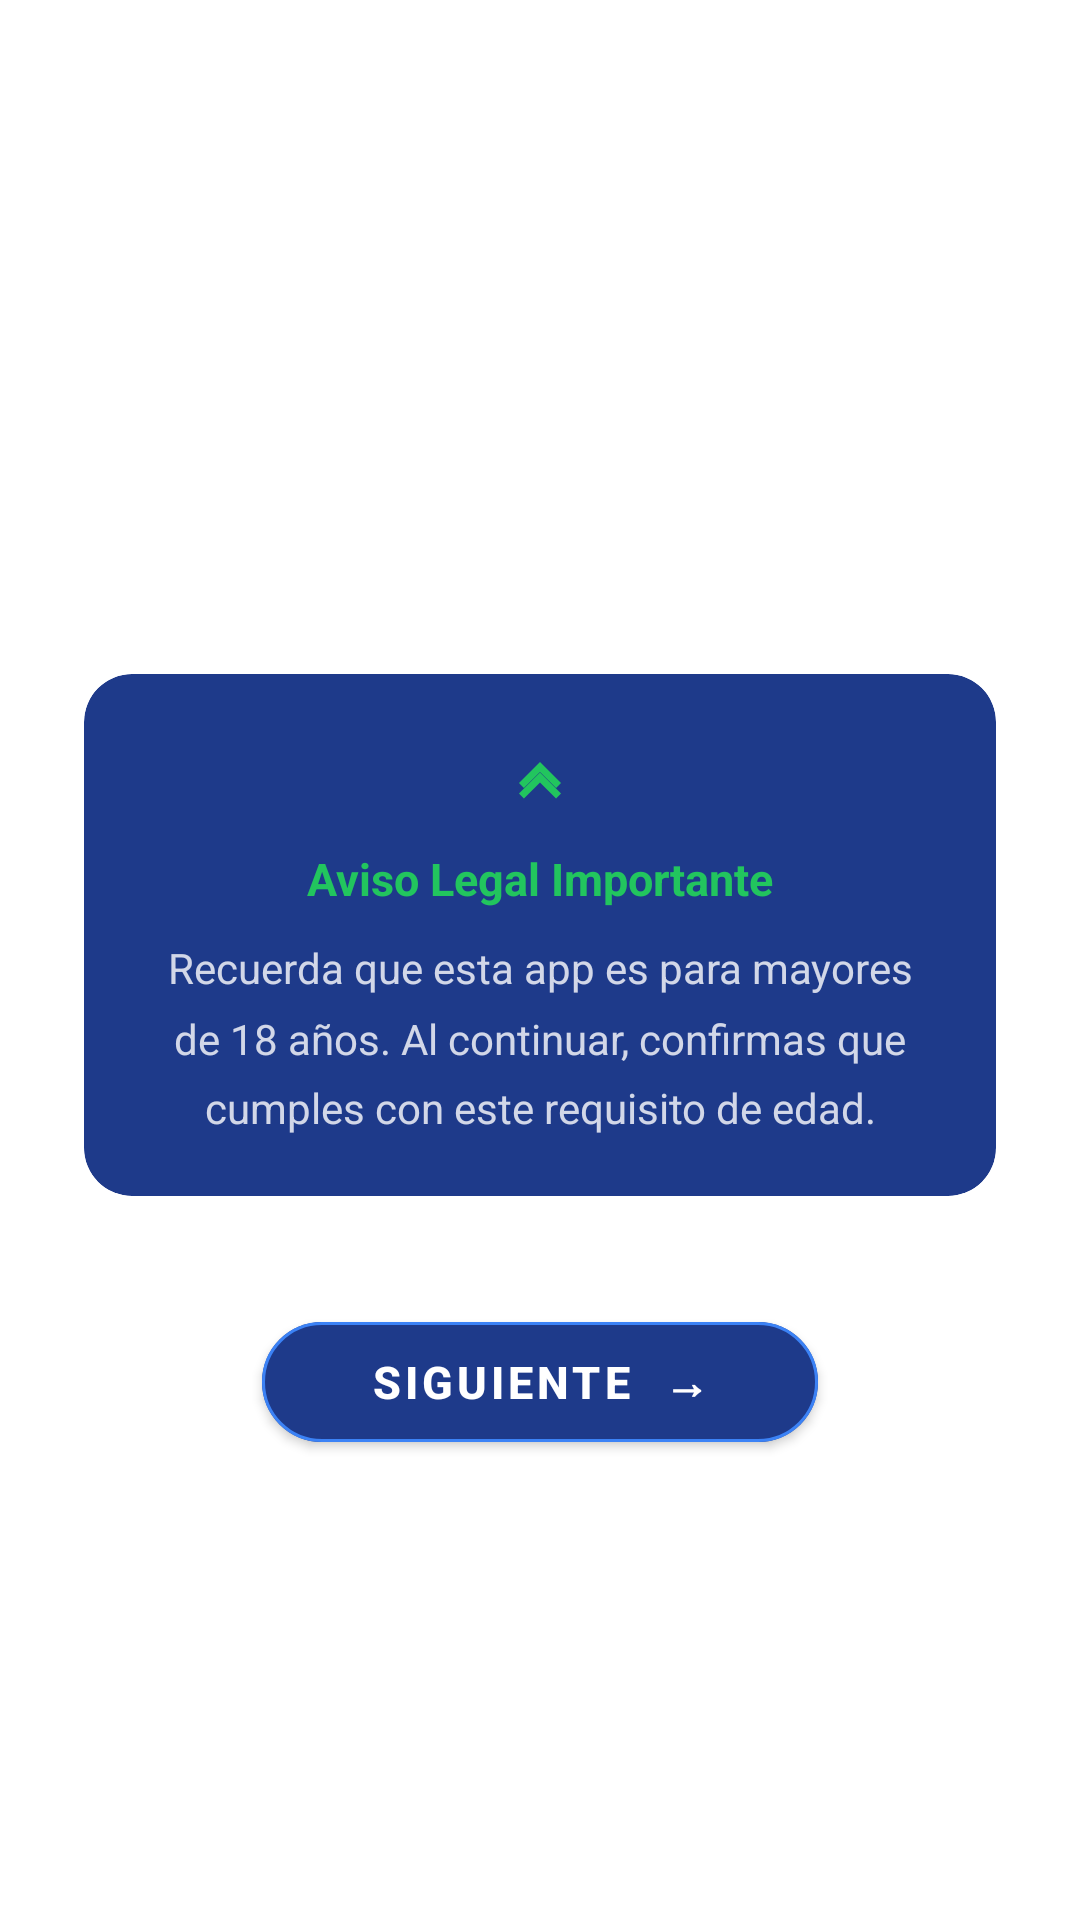

Where to tap for icons on this 1080 × 1920 app screen, as (x=x, y=y):
chevron double: (x=540, y=780)
